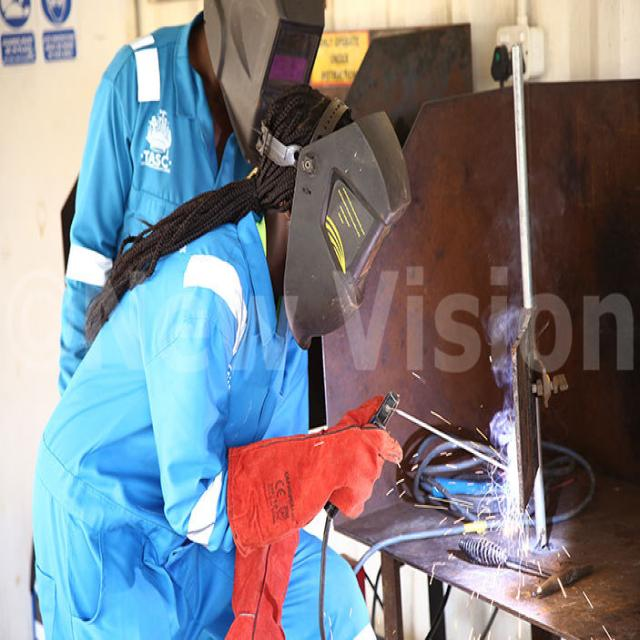with_helmet: (253, 87, 414, 352), (201, 2, 328, 170)
